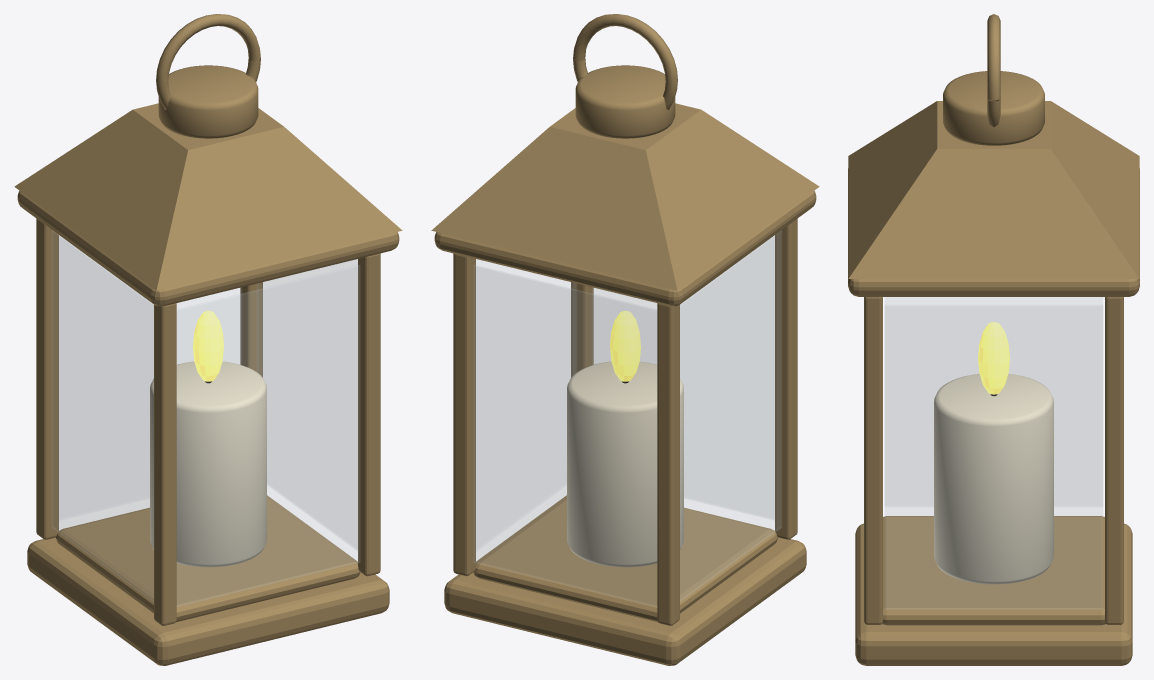
Rendered from terrace-lantern.glb.
The picture shows the model from 3 angles, left to right: view 1: azimuth 30°, elevation 25°; view 2: azimuth 150°, elevation 25°; view 3: azimuth 270°, elevation 25°; orthographic projection. The views are drawn at different scales.
Visible parts, largest first — view 1: Weighted lantern base; view 2: Weighted lantern base; view 3: Weighted lantern base.
Part boxes in pixels (box(x1,y1,x2,y2)): Weighted lantern base: box(14, 14, 402, 665); Weighted lantern base: box(431, 14, 819, 665); Weighted lantern base: box(848, 14, 1139, 665).
Size of the model in its own units: 0.4 by 0.894 by 0.4.
